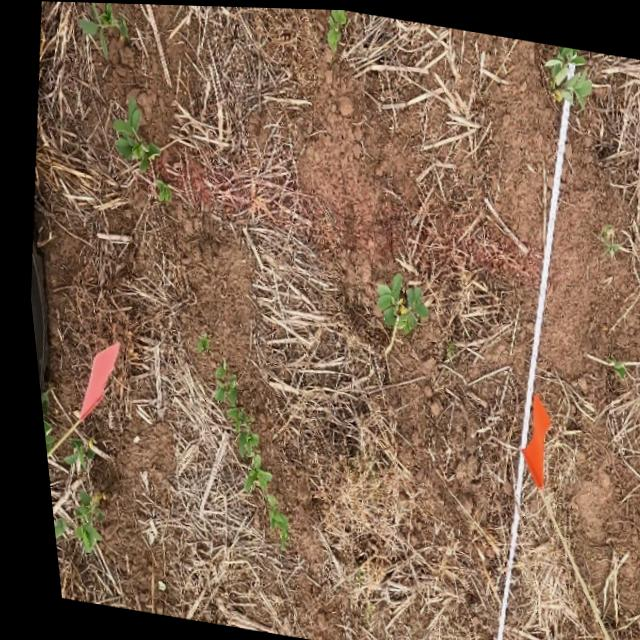soy_plant: (206, 360, 277, 547), (370, 272, 422, 351), (41, 479, 92, 554), (110, 97, 158, 171), (544, 43, 591, 103), (78, 2, 127, 58), (580, 351, 632, 376), (54, 437, 84, 472), (326, 8, 347, 50), (32, 392, 45, 453), (153, 179, 167, 201), (189, 332, 203, 353)
